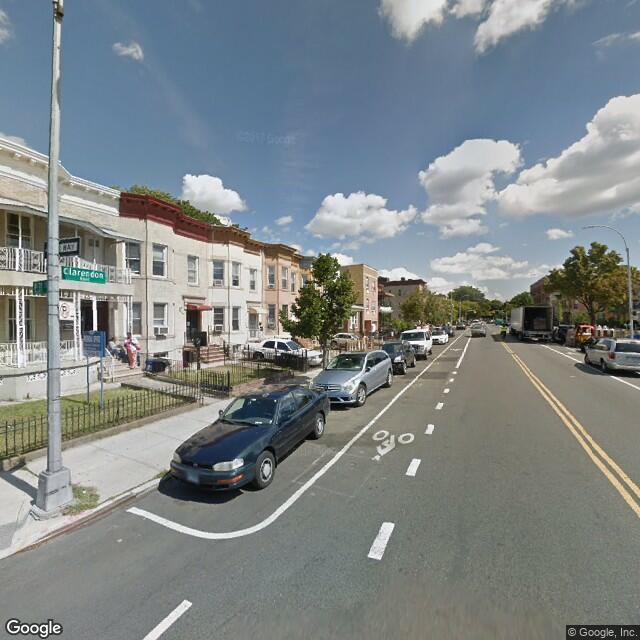litter: (77, 490, 88, 496)
